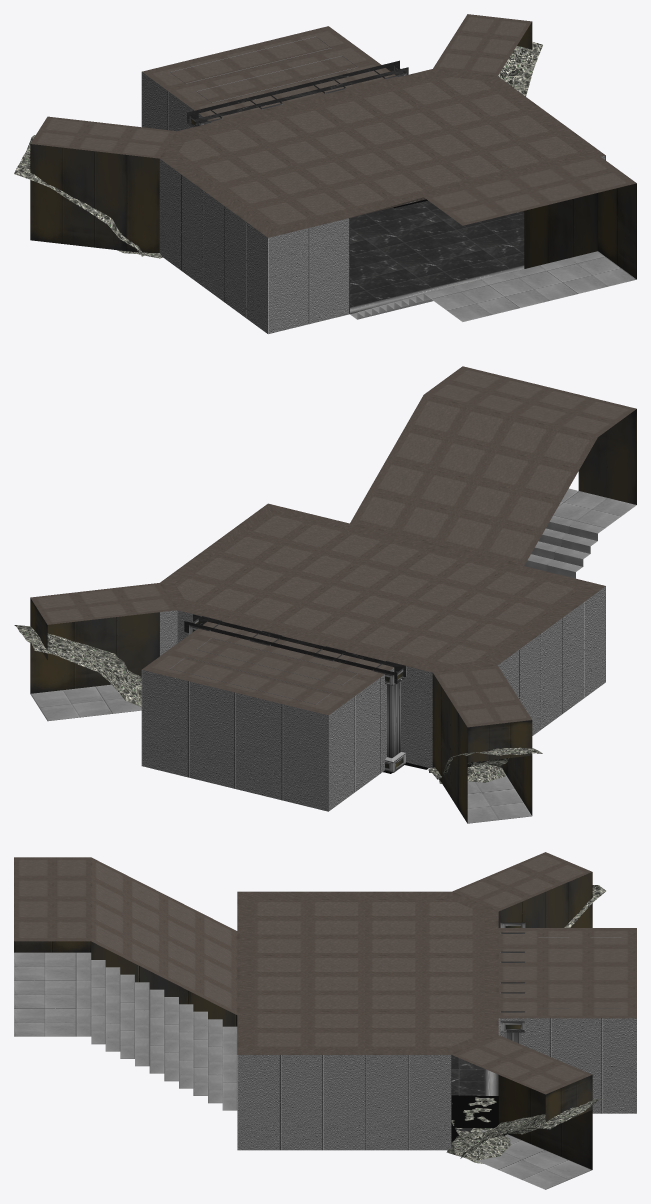
The model's file is mint_bankteller.fbx.
The picture shows the model from 3 angles, top to bottom: view 1: azimuth 30°, elevation 25°; view 2: azimuth 150°, elevation 25°; view 3: azimuth 270°, elevation 25°; orthographic projection.
Parts seen in each view (by area): view 1: roof, walls, floor, stairs, front_desk, money_landslide_right, money_landslide_left, light_ceil; view 2: roof, walls, floor, stairs, money_landslide_right, front_desk, pillars, money_landslide_left, light_ceil; view 3: roof, walls, stairs, floor, money_landslide_right, pillars.
Part boxes in pixels (x1,y1,x2,y2): roof: (30, 14, 636, 237); walls: (30, 22, 636, 334); floor: (350, 200, 524, 313); stairs: (350, 251, 636, 321); front_desk: (187, 60, 408, 127); money_landslide_right: (393, 41, 542, 208); money_landslide_left: (14, 135, 162, 258); light_ceil: (170, 36, 357, 102); roof: (30, 366, 636, 727); walls: (30, 409, 636, 823); floor: (30, 684, 531, 823); stairs: (524, 488, 636, 578); money_landslide_right: (14, 625, 141, 707); front_desk: (184, 614, 405, 683); pillars: (189, 616, 406, 772); money_landslide_left: (404, 747, 542, 783); light_ceil: (170, 638, 357, 704); roof: (14, 852, 636, 1094); walls: (14, 872, 636, 1169); stairs: (14, 952, 237, 1110); floor: (451, 1055, 591, 1189); money_landslide_right: (446, 1095, 605, 1163); pillars: (500, 922, 525, 1044).
Size of what is drawn, in the model's own units: 4165 by 1464 by 4290.
